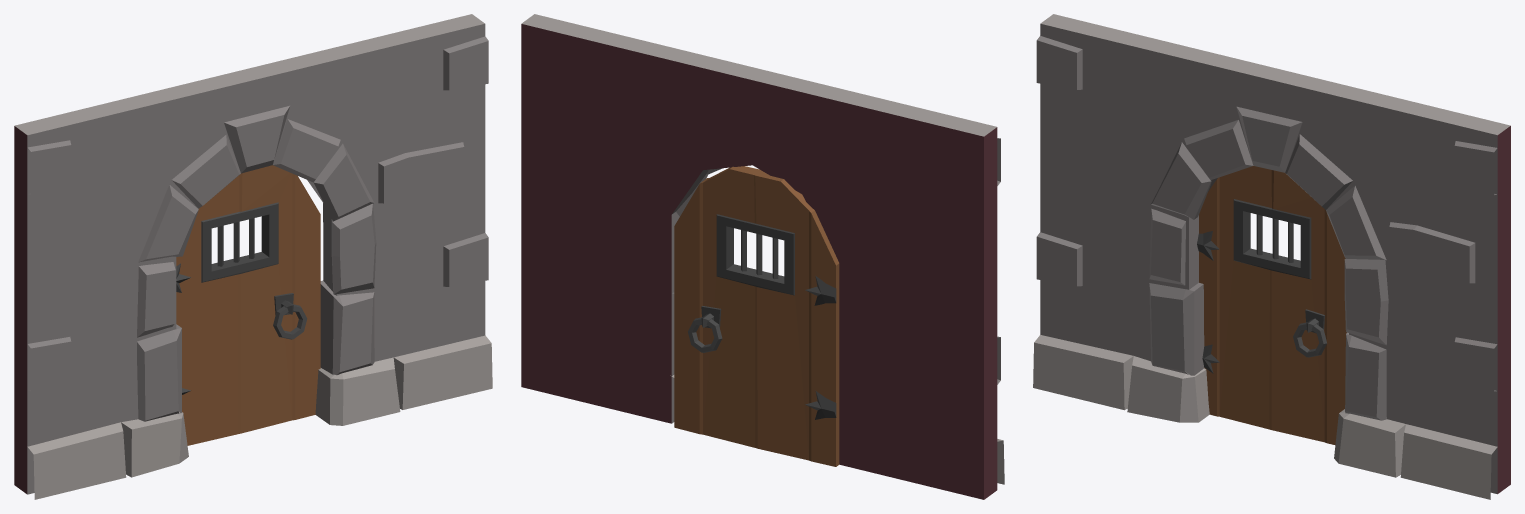
File: dungeonDoorTogether.fbx
3 renders of one model, left to right at view 1: azimuth 30°, elevation 25°; view 2: azimuth 150°, elevation 25°; view 3: azimuth 330°, elevation 25°, orthographic.
Parts seen in each view (by area): view 1: dungeon-door-stone, door-wood; view 2: dungeon-door-stone, door-wood; view 3: dungeon-door-stone, door-wood.
Part boxes in pixels (x1,y1,x2,y2): dungeon-door-stone: [14, 14, 492, 499]; door-wood: [176, 165, 320, 445]; dungeon-door-stone: [521, 14, 1004, 499]; door-wood: [674, 166, 839, 466]; dungeon-door-stone: [1033, 14, 1510, 499]; door-wood: [1197, 166, 1346, 444].
Bounding box in the file's own units: 400 × 300 × 52.47.
